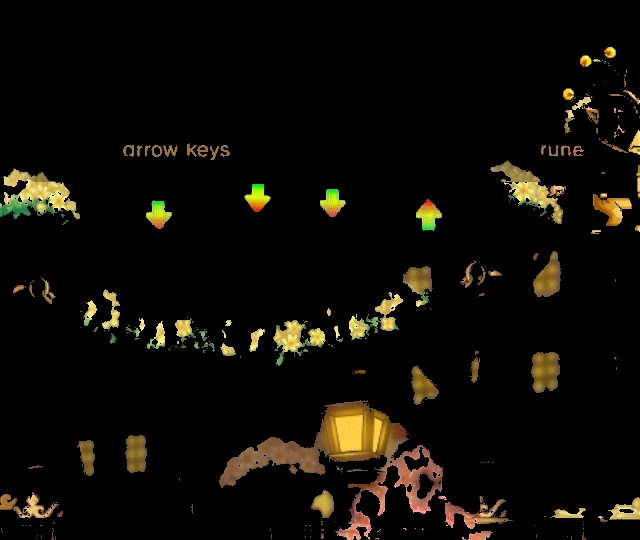rune_box: (103, 162, 518, 257)
